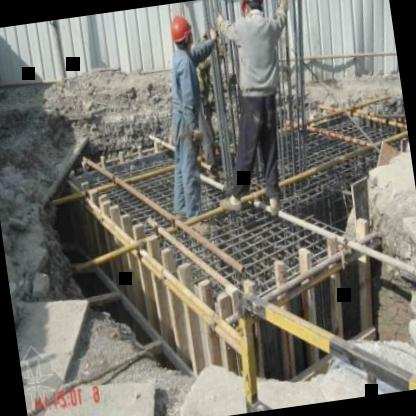helmet: (166, 9, 195, 53), (238, 0, 267, 18)
